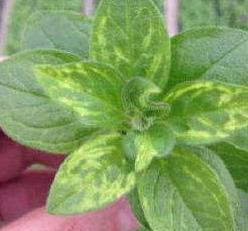Tomato leaf mosaic virus: (92, 0, 175, 115), (134, 150, 235, 231), (32, 61, 137, 134), (160, 79, 248, 144)
